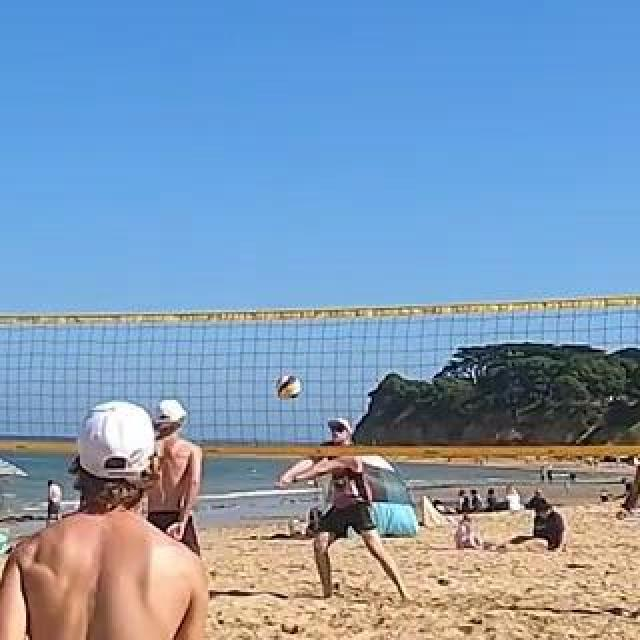volleyball: (277, 375, 303, 399)
